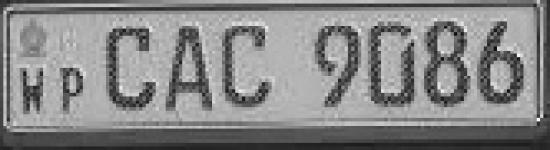0: (365, 16, 420, 114)
6: (473, 16, 528, 113)
8: (418, 13, 474, 110)
9: (315, 15, 363, 115)
A: (160, 17, 217, 114)
C: (102, 18, 161, 117), (220, 18, 280, 110)
P: (55, 60, 90, 120)
W: (17, 61, 49, 118)
